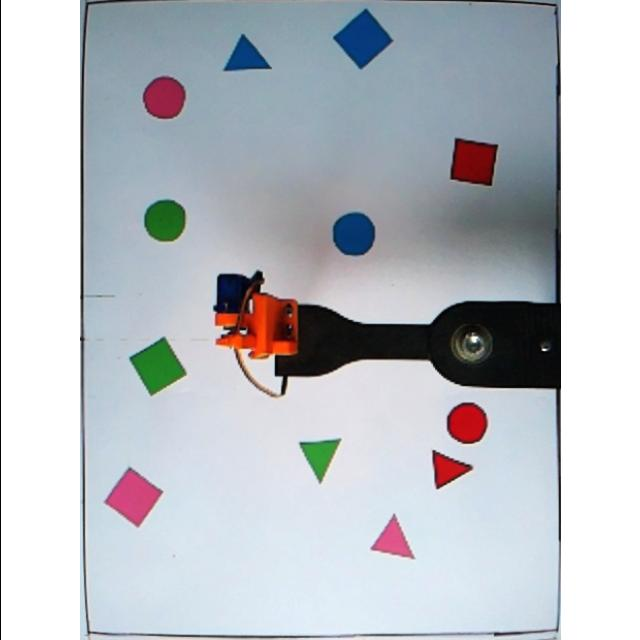blueCircle: (332, 210, 378, 258)
blueSquare: (332, 8, 393, 72)
blueTriangle: (222, 32, 274, 76)
greenCircle: (144, 199, 188, 243)
greenSquare: (130, 336, 188, 396)
greenTriangle: (295, 438, 345, 484)
pinkCircle: (140, 74, 188, 120)
pinkSquare: (104, 464, 164, 528)
pinkTriangle: (368, 512, 419, 562)
redCircle: (444, 402, 492, 446)
redSquare: (446, 136, 502, 190)
redTriangle: (430, 448, 474, 492)
